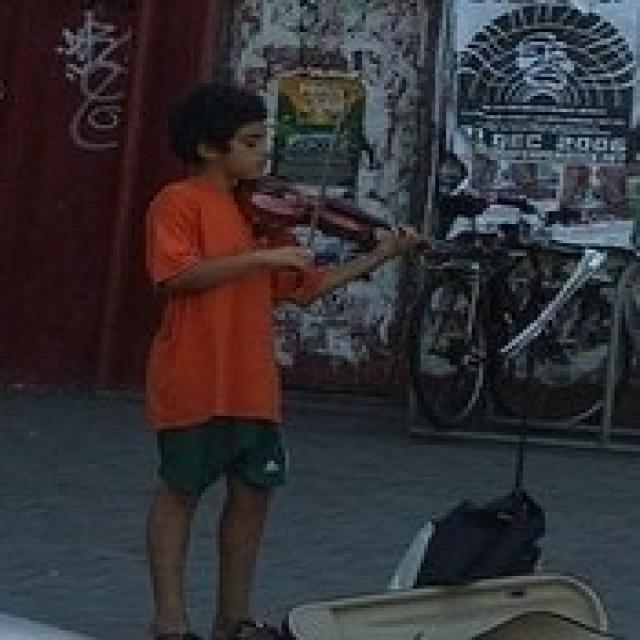violin: (238, 169, 435, 262)
